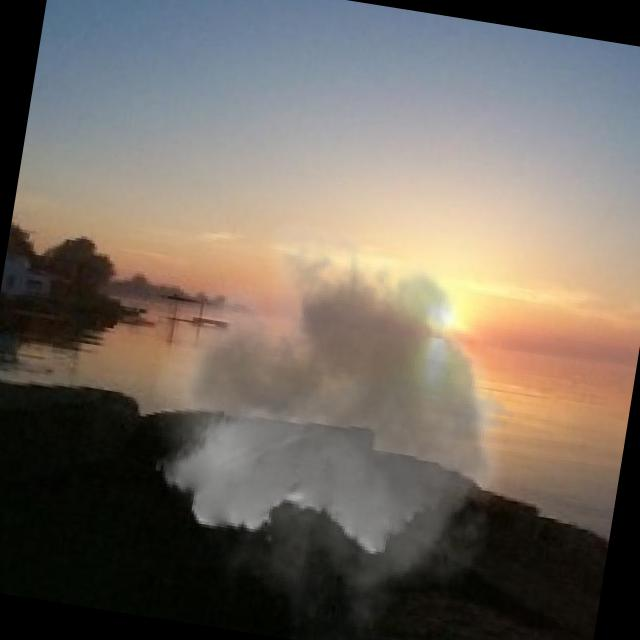Smoke: (120, 183, 555, 640)
